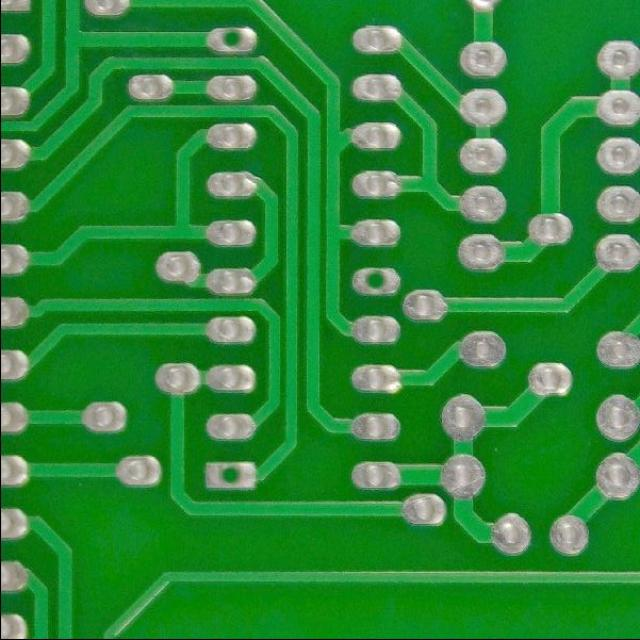missing_hole: (206, 460, 253, 493), (208, 23, 250, 58), (351, 266, 395, 298)
